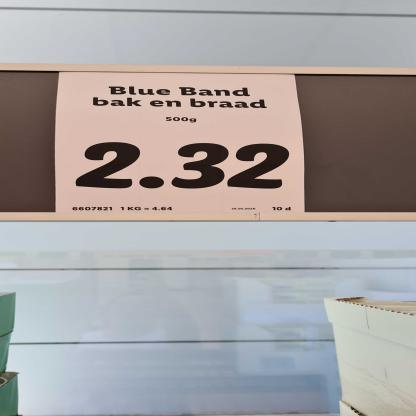prtg: (57, 73, 305, 213)
